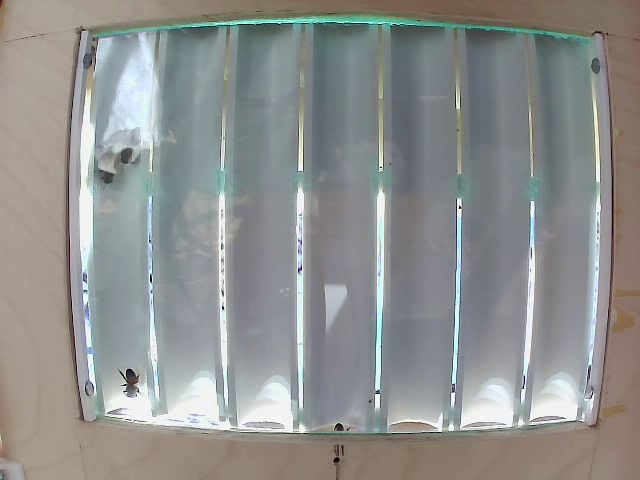bee: (106, 354, 148, 395)
